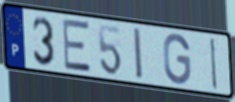3: (31, 15, 56, 68)
5: (97, 22, 124, 77)
E: (61, 19, 93, 74)
G: (162, 32, 192, 87)
I: (132, 25, 145, 82), (209, 36, 219, 92)
